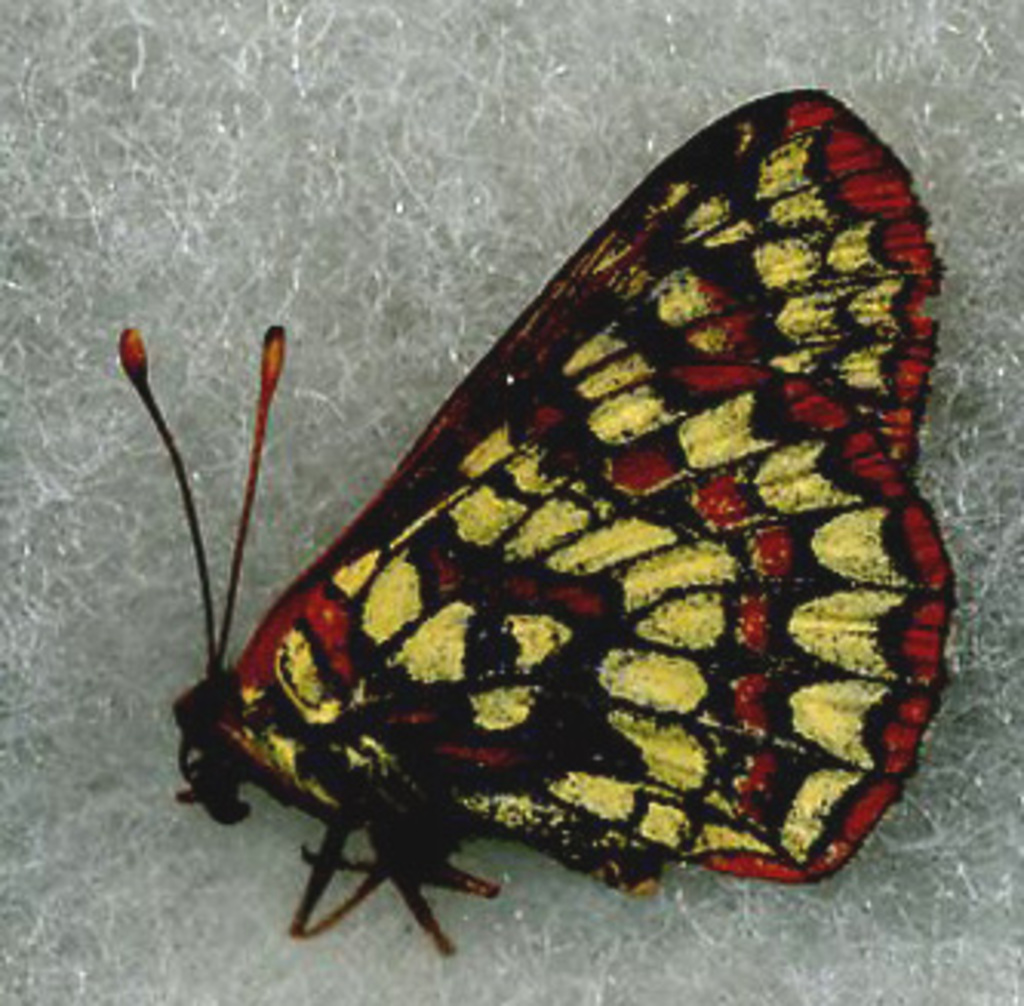Butterfly: (101, 55, 942, 960)
